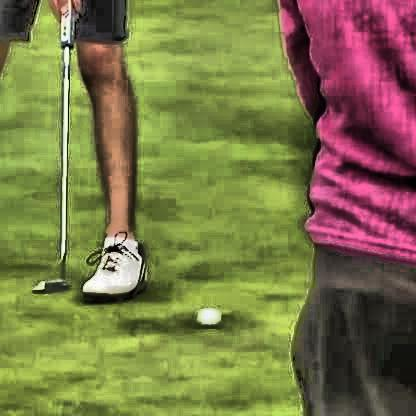golfball: (195, 306, 219, 325)
